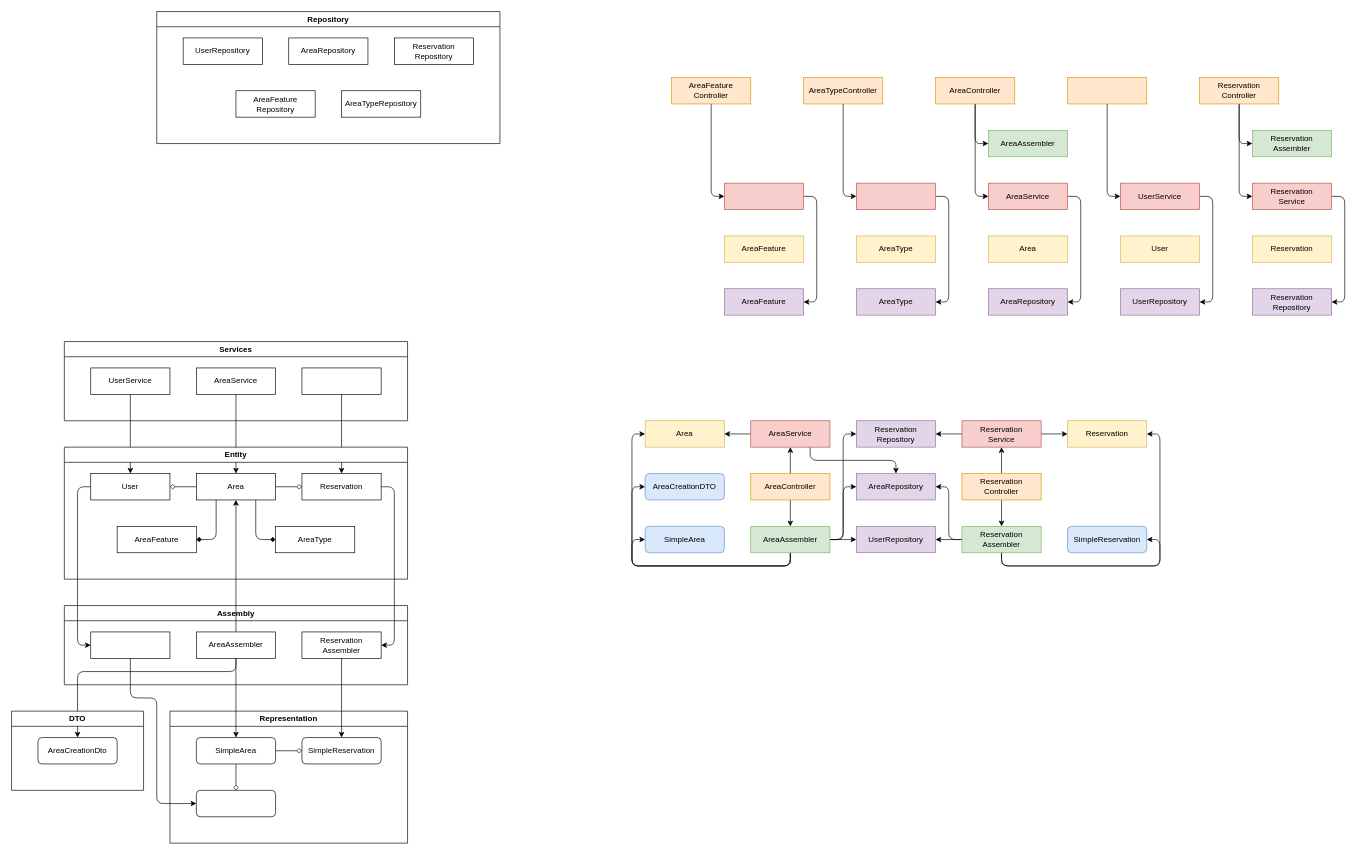
Image size: 1362x855. Some labels were removed from this diagram. The centre of each missing label's shape, as x and y in pixels:
AreaFeatureService: point 764,196
AreaTypeService: point 896,196
ReservationService: point 341,380
SimpleUser: point 236,803
UserAssembler: point 130,644
UserController: point 1107,90
